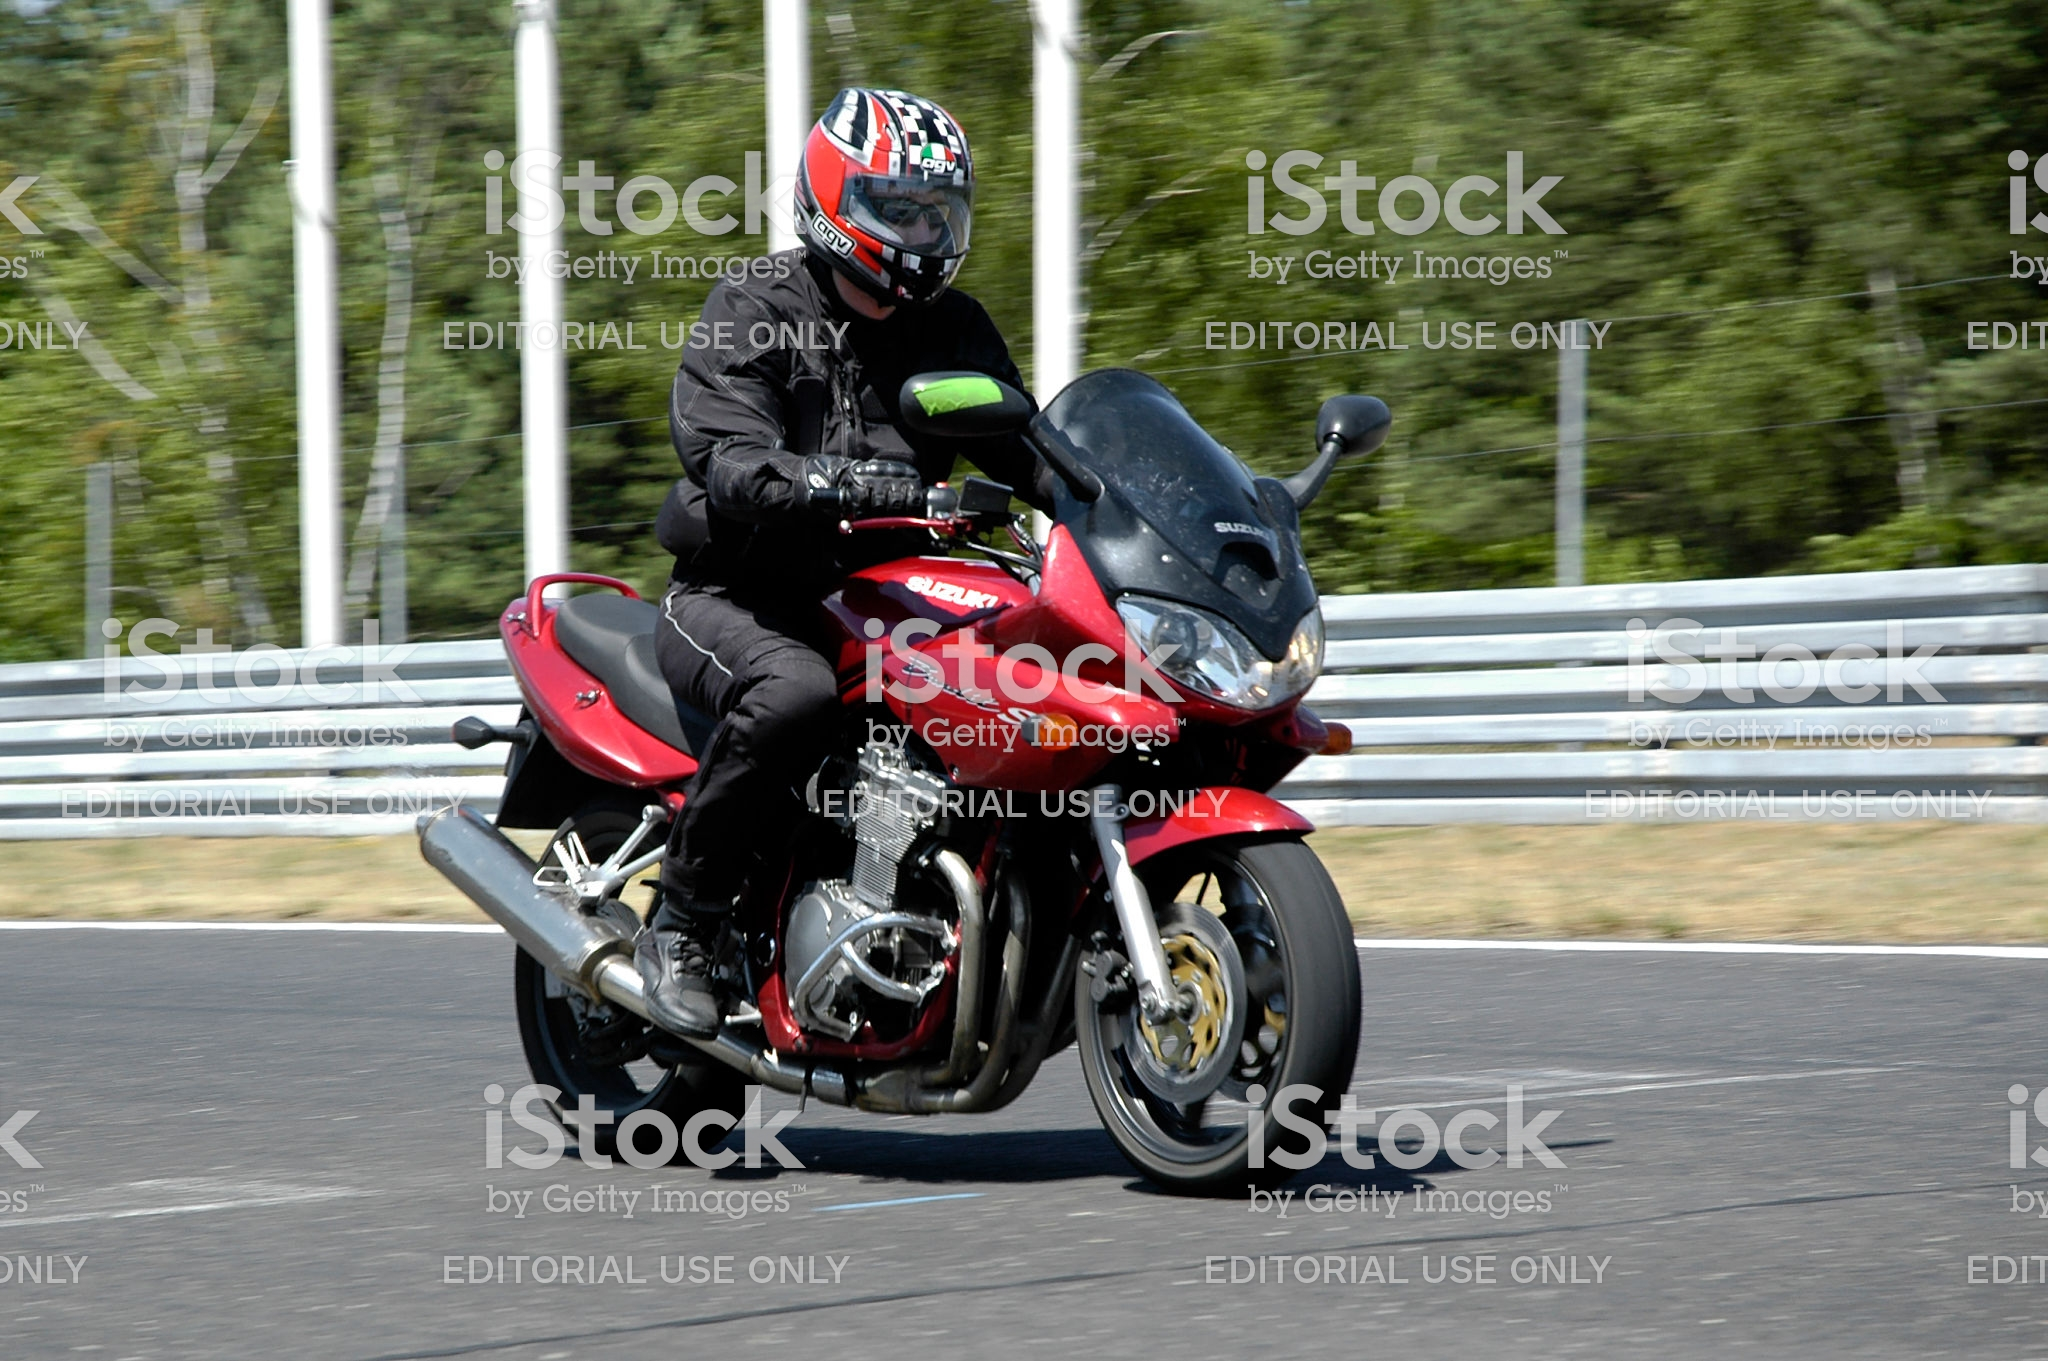helmet: (802, 62, 988, 296)
